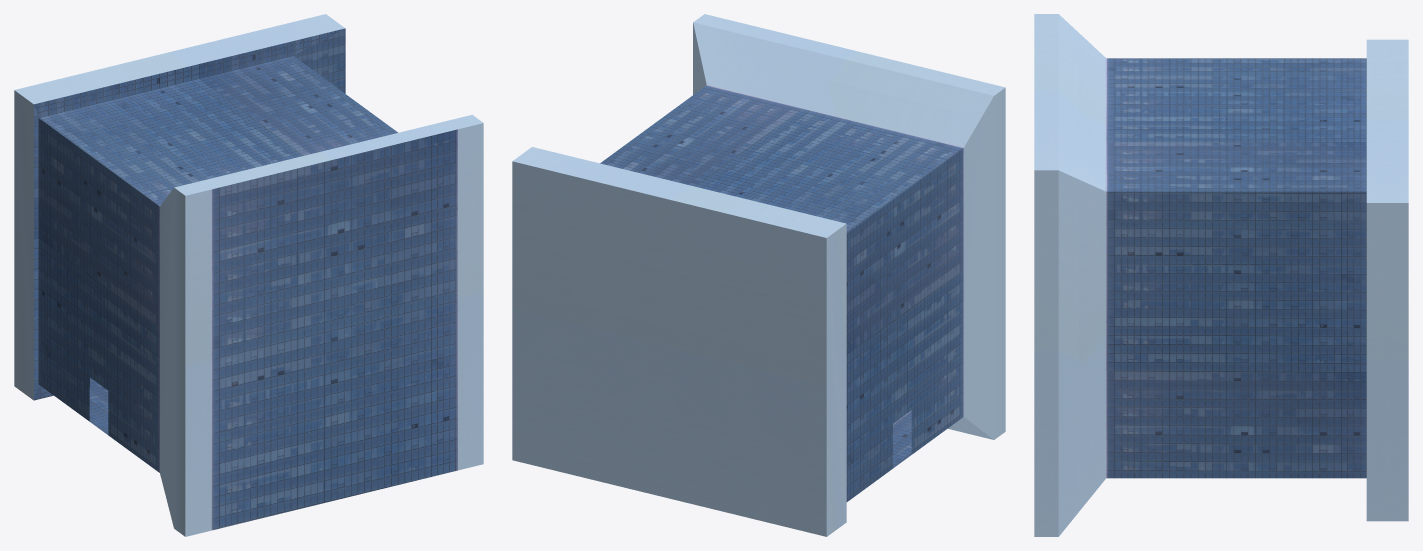
Rendered from Building_Rm.fbx.
3 views of the same model, side by side, from view 1: azimuth 30°, elevation 25°; view 2: azimuth 150°, elevation 25°; view 3: azimuth 270°, elevation 25° (orthographic). The views are drawn at different scales.
Visible parts, largest first — view 1: Building_Windows_Rm; view 2: Building_Windows_Rm; view 3: Building_Windows_Rm.
Boxes of the visible parts, x1,y1,x2,y2 form: Building_Windows_Rm: [14, 14, 483, 536]; Building_Windows_Rm: [512, 14, 1005, 536]; Building_Windows_Rm: [1034, 14, 1408, 536].
Size of the model in its own units: 34.37 by 35.6 by 32.96.
